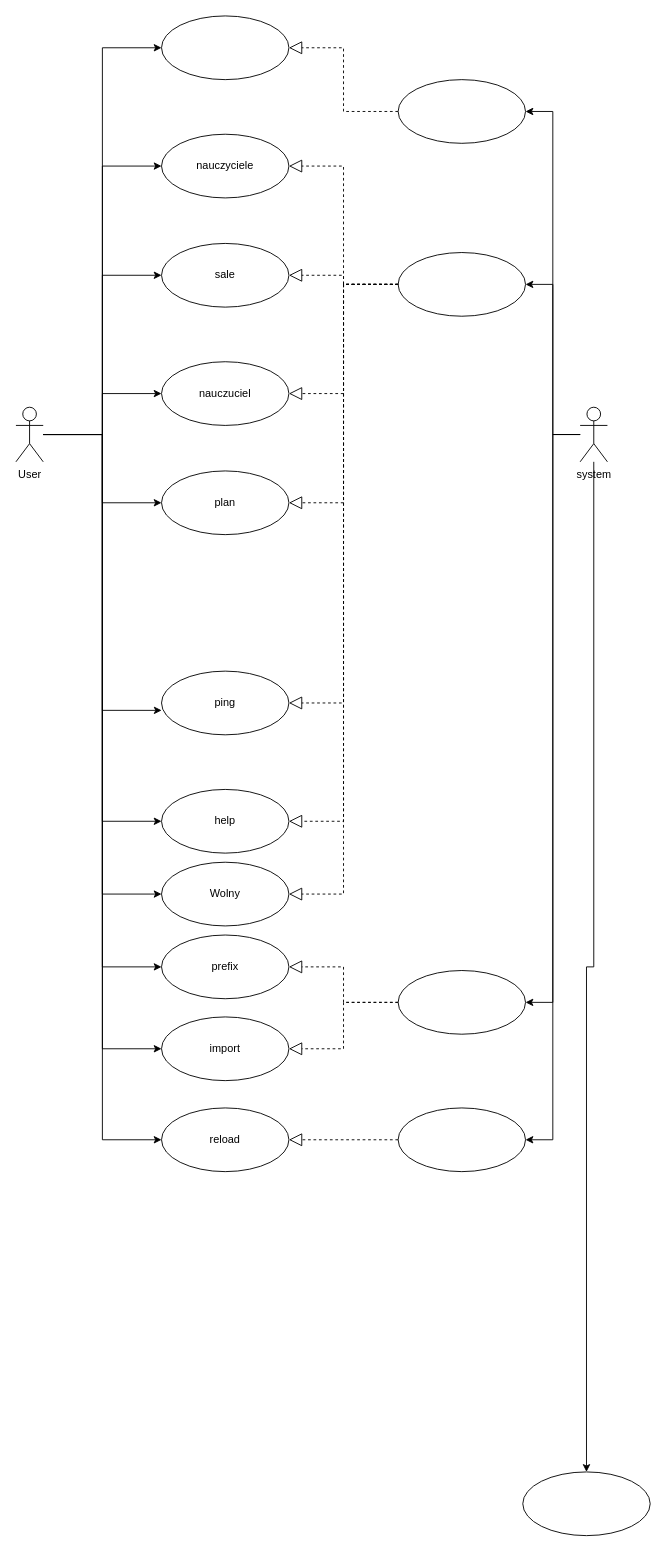
Image size: 666x1552. Some labels were removed from this diagram. Each missing label, with the box of its shape:
clear: (161, 15, 289, 80)
import data: (522, 1471, 650, 1536)
kasuj: (397, 79, 526, 143)
Wczytaj ponownie: (397, 1107, 526, 1172)
wyświetl: (397, 252, 526, 316)
zapisz: (397, 970, 526, 1034)
